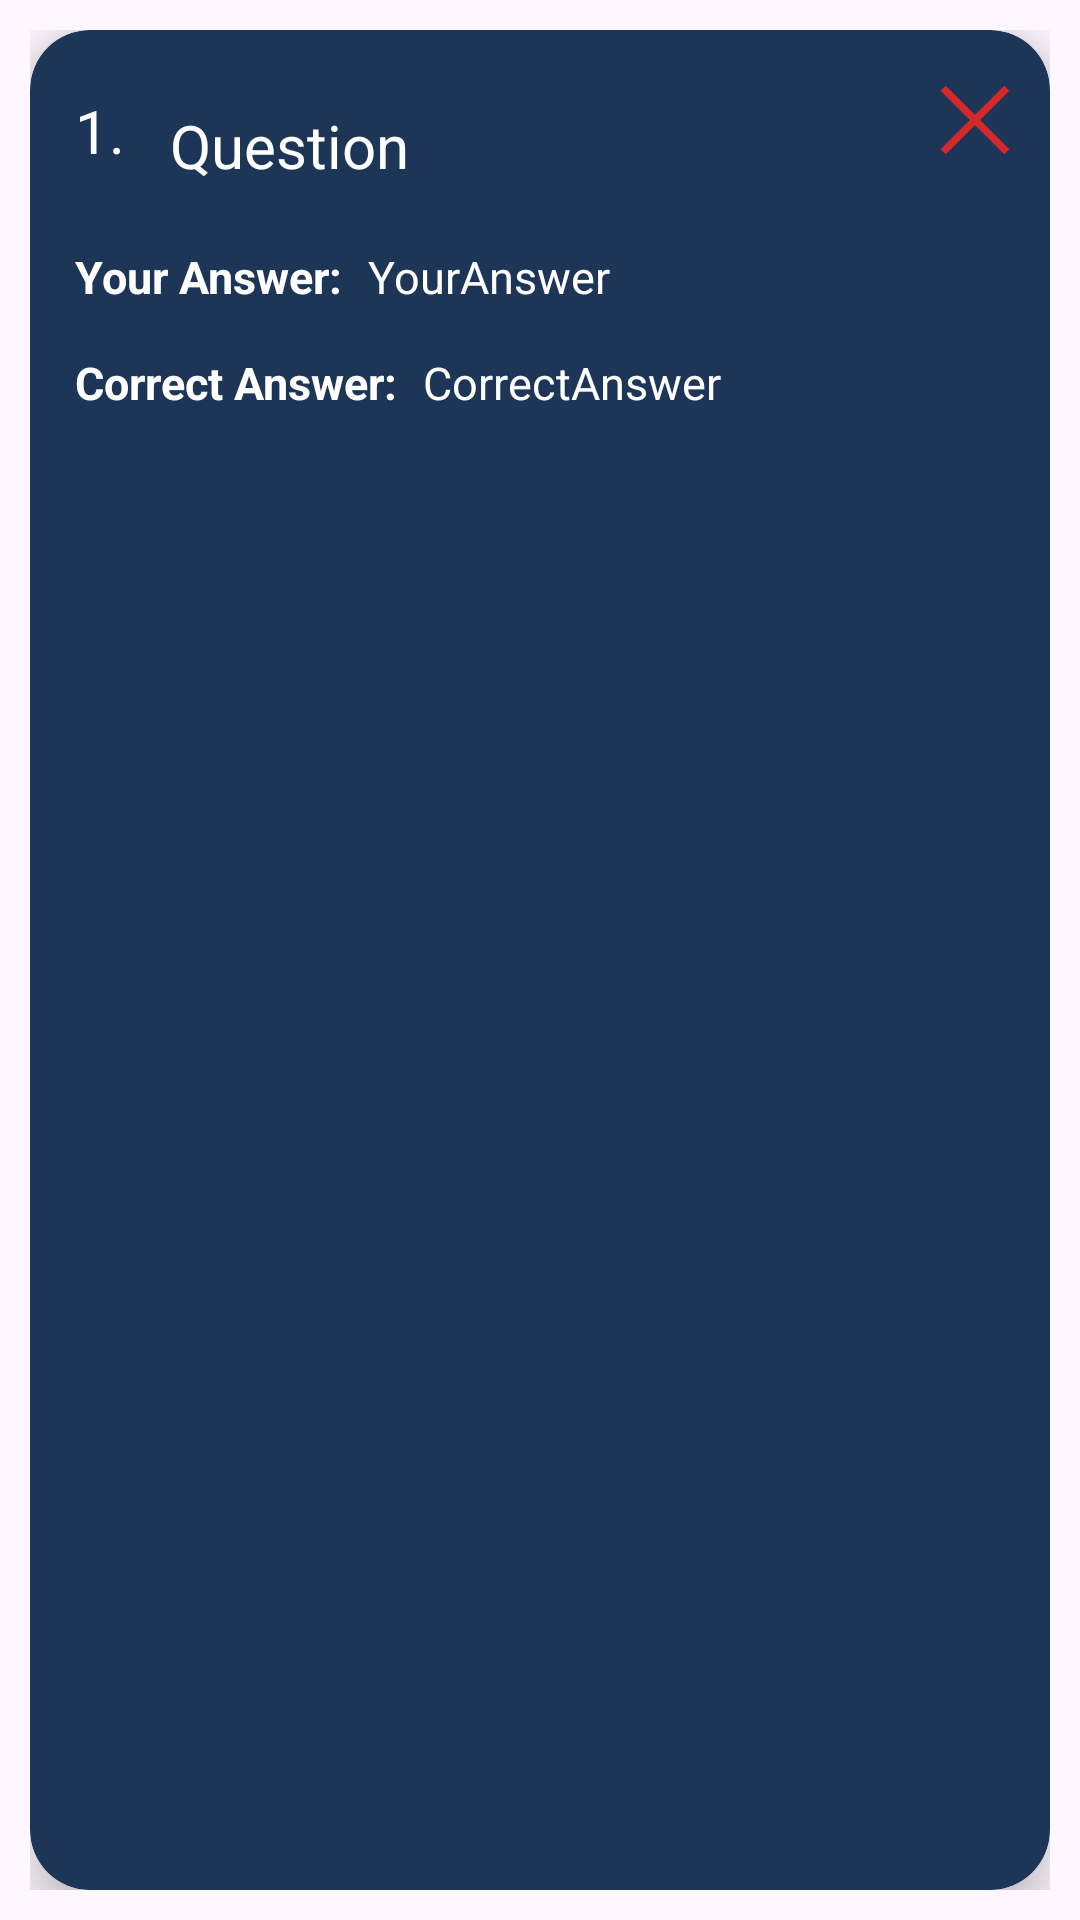

Icon click points for this 1080*1920 phone screenshot, format (x=x, y=y):
cross: (x=975, y=120)
